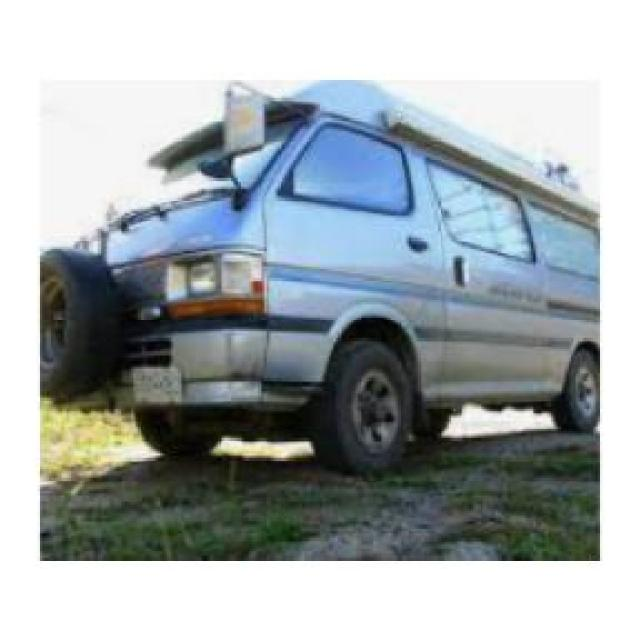Van: (36, 88, 596, 470)
